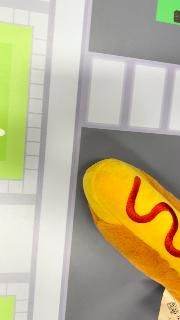hotdog: (82, 158, 180, 304)
